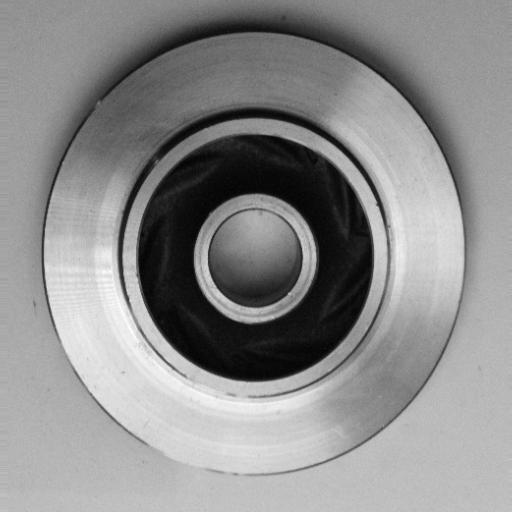scratch: (137, 438, 253, 491), (180, 367, 259, 408)
unpolished_casting: (40, 29, 468, 480)
